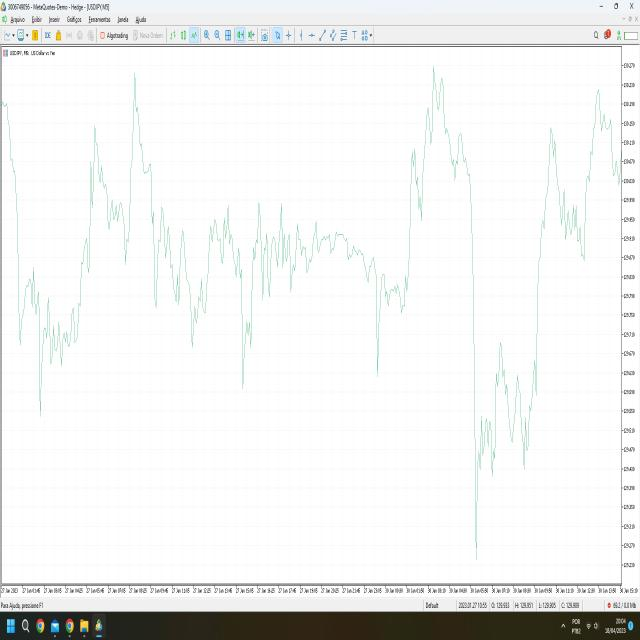bandeira_baixa: (6, 109, 40, 351)
oco: (402, 55, 480, 275)
